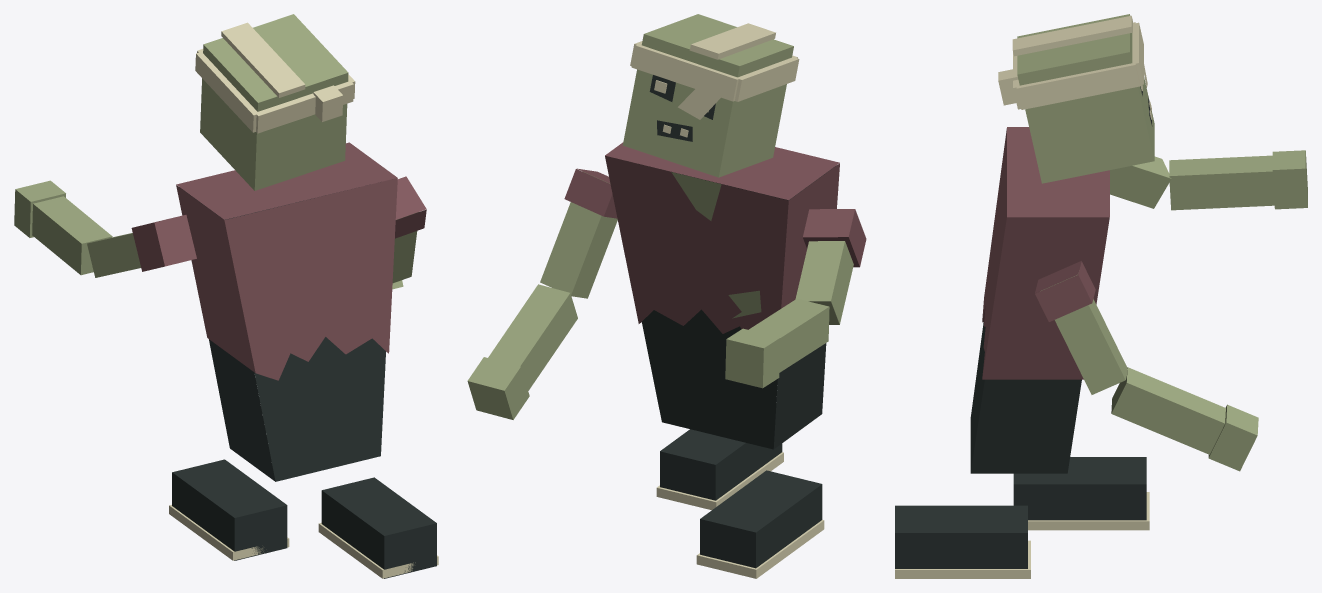
Rendered from zombie_fast.glb.
3 views of the same model, side by side, from view 1: azimuth 30°, elevation 25°; view 2: azimuth 150°, elevation 25°; view 3: azimuth 270°, elevation 25° (orthographic). The views are drawn at different scales.
Visible parts, largest first — view 1: body, head, ShoeRight, ShoeLeft, handLeft, armLeft, armRight; view 2: body, head, ShoeLeft, handRight, ShoeRight, armRight, handLeft, armLeft; view 3: body, head, ShoeRight, ShoeLeft, handRight, handLeft, armRight, armLeft.
Part boxes in pixels (<box>): body: <box>176,142,397,481</box>; head: <box>195,14,355,190</box>; ShoeRight: <box>318,477,438,578</box>; ShoeLeft: <box>169,459,289,560</box>; handLeft: <box>14,180,112,275</box>; armLeft: <box>87,215,196,277</box>; armRight: <box>392,176,426,283</box>; body: <box>605,142,839,449</box>; head: <box>622,14,799,177</box>; ShoeLeft: <box>696,470,824,578</box>; handRight: <box>467,284,577,419</box>; ShoeRight: <box>656,429,783,510</box>; armRight: <box>540,168,617,298</box>; handLeft: <box>725,298,829,388</box>; armLeft: <box>795,209,866,324</box>; body: <box>970,127,1109,473</box>; head: <box>998,14,1154,183</box>; ShoeRight: <box>895,505,1030,578</box>; ShoeLeft: <box>1013,457,1149,530</box>; handRight: <box>1111,367,1258,471</box>; handLeft: <box>1169,150,1307,210</box>; armRight: <box>1035,261,1127,394</box>; armLeft: <box>1110,156,1171,208</box>.
Bounding box in the file's own units: 1.03 × 1.57 × 1.15.
